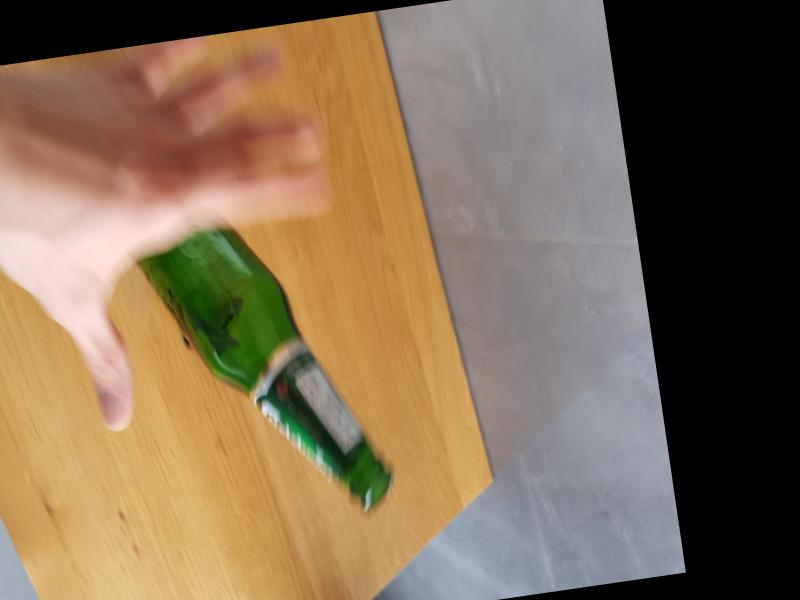Beer: (131, 209, 397, 541)
